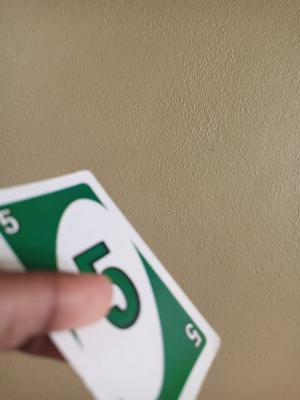green: (20, 204, 188, 384)
num_5: (175, 319, 207, 348)
